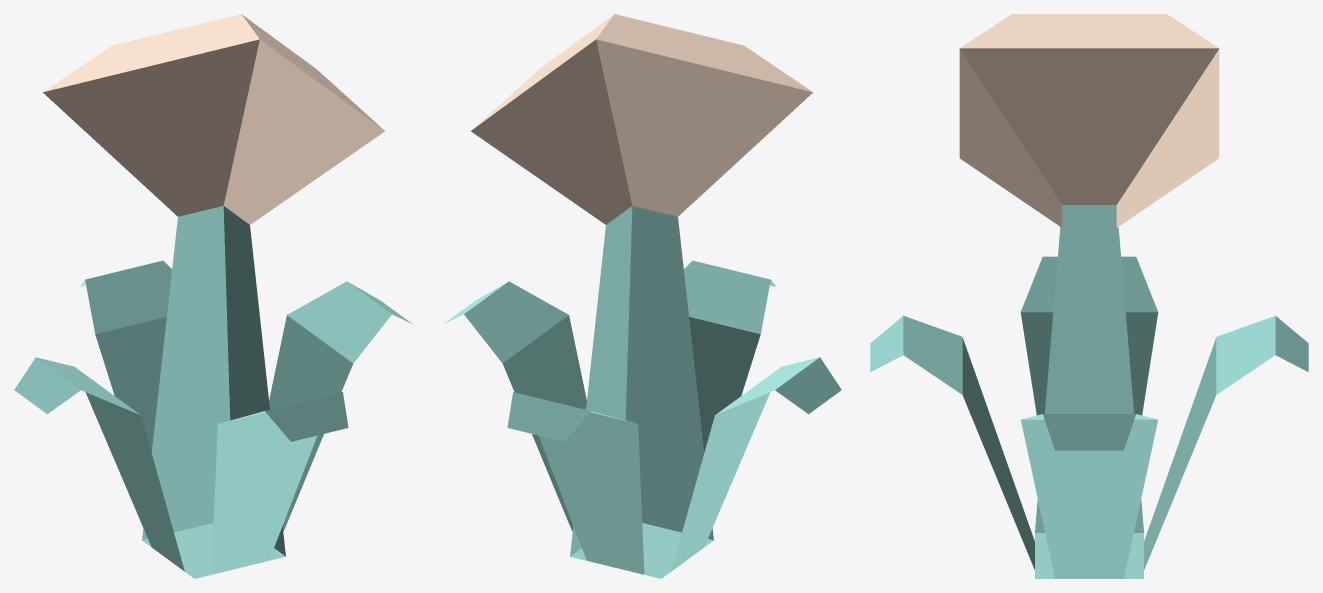
The model's file is flower_beige2.glb.
The picture shows the model from 3 angles, left to right: view 1: azimuth 30°, elevation 25°; view 2: azimuth 150°, elevation 25°; view 3: azimuth 270°, elevation 25°; orthographic projection. The views are drawn at different scales.
Parts seen in each view (by area): view 1: flower_beige2; view 2: flower_beige2; view 3: flower_beige2.
Boxes of the visible parts, x1,y1,x2,y2 form: flower_beige2: [14, 14, 412, 578]; flower_beige2: [443, 14, 841, 578]; flower_beige2: [870, 14, 1308, 578].
Bounding box in the file's own units: 1.71 × 2.2 × 1.71.
